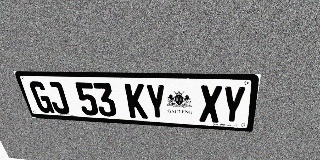3: (93, 83, 117, 117)
5: (74, 82, 100, 116)
G: (28, 81, 55, 113)
J: (44, 82, 71, 114)
K: (124, 83, 148, 119)
X: (199, 85, 222, 123)
Y: (221, 86, 247, 124), (145, 84, 167, 120)
